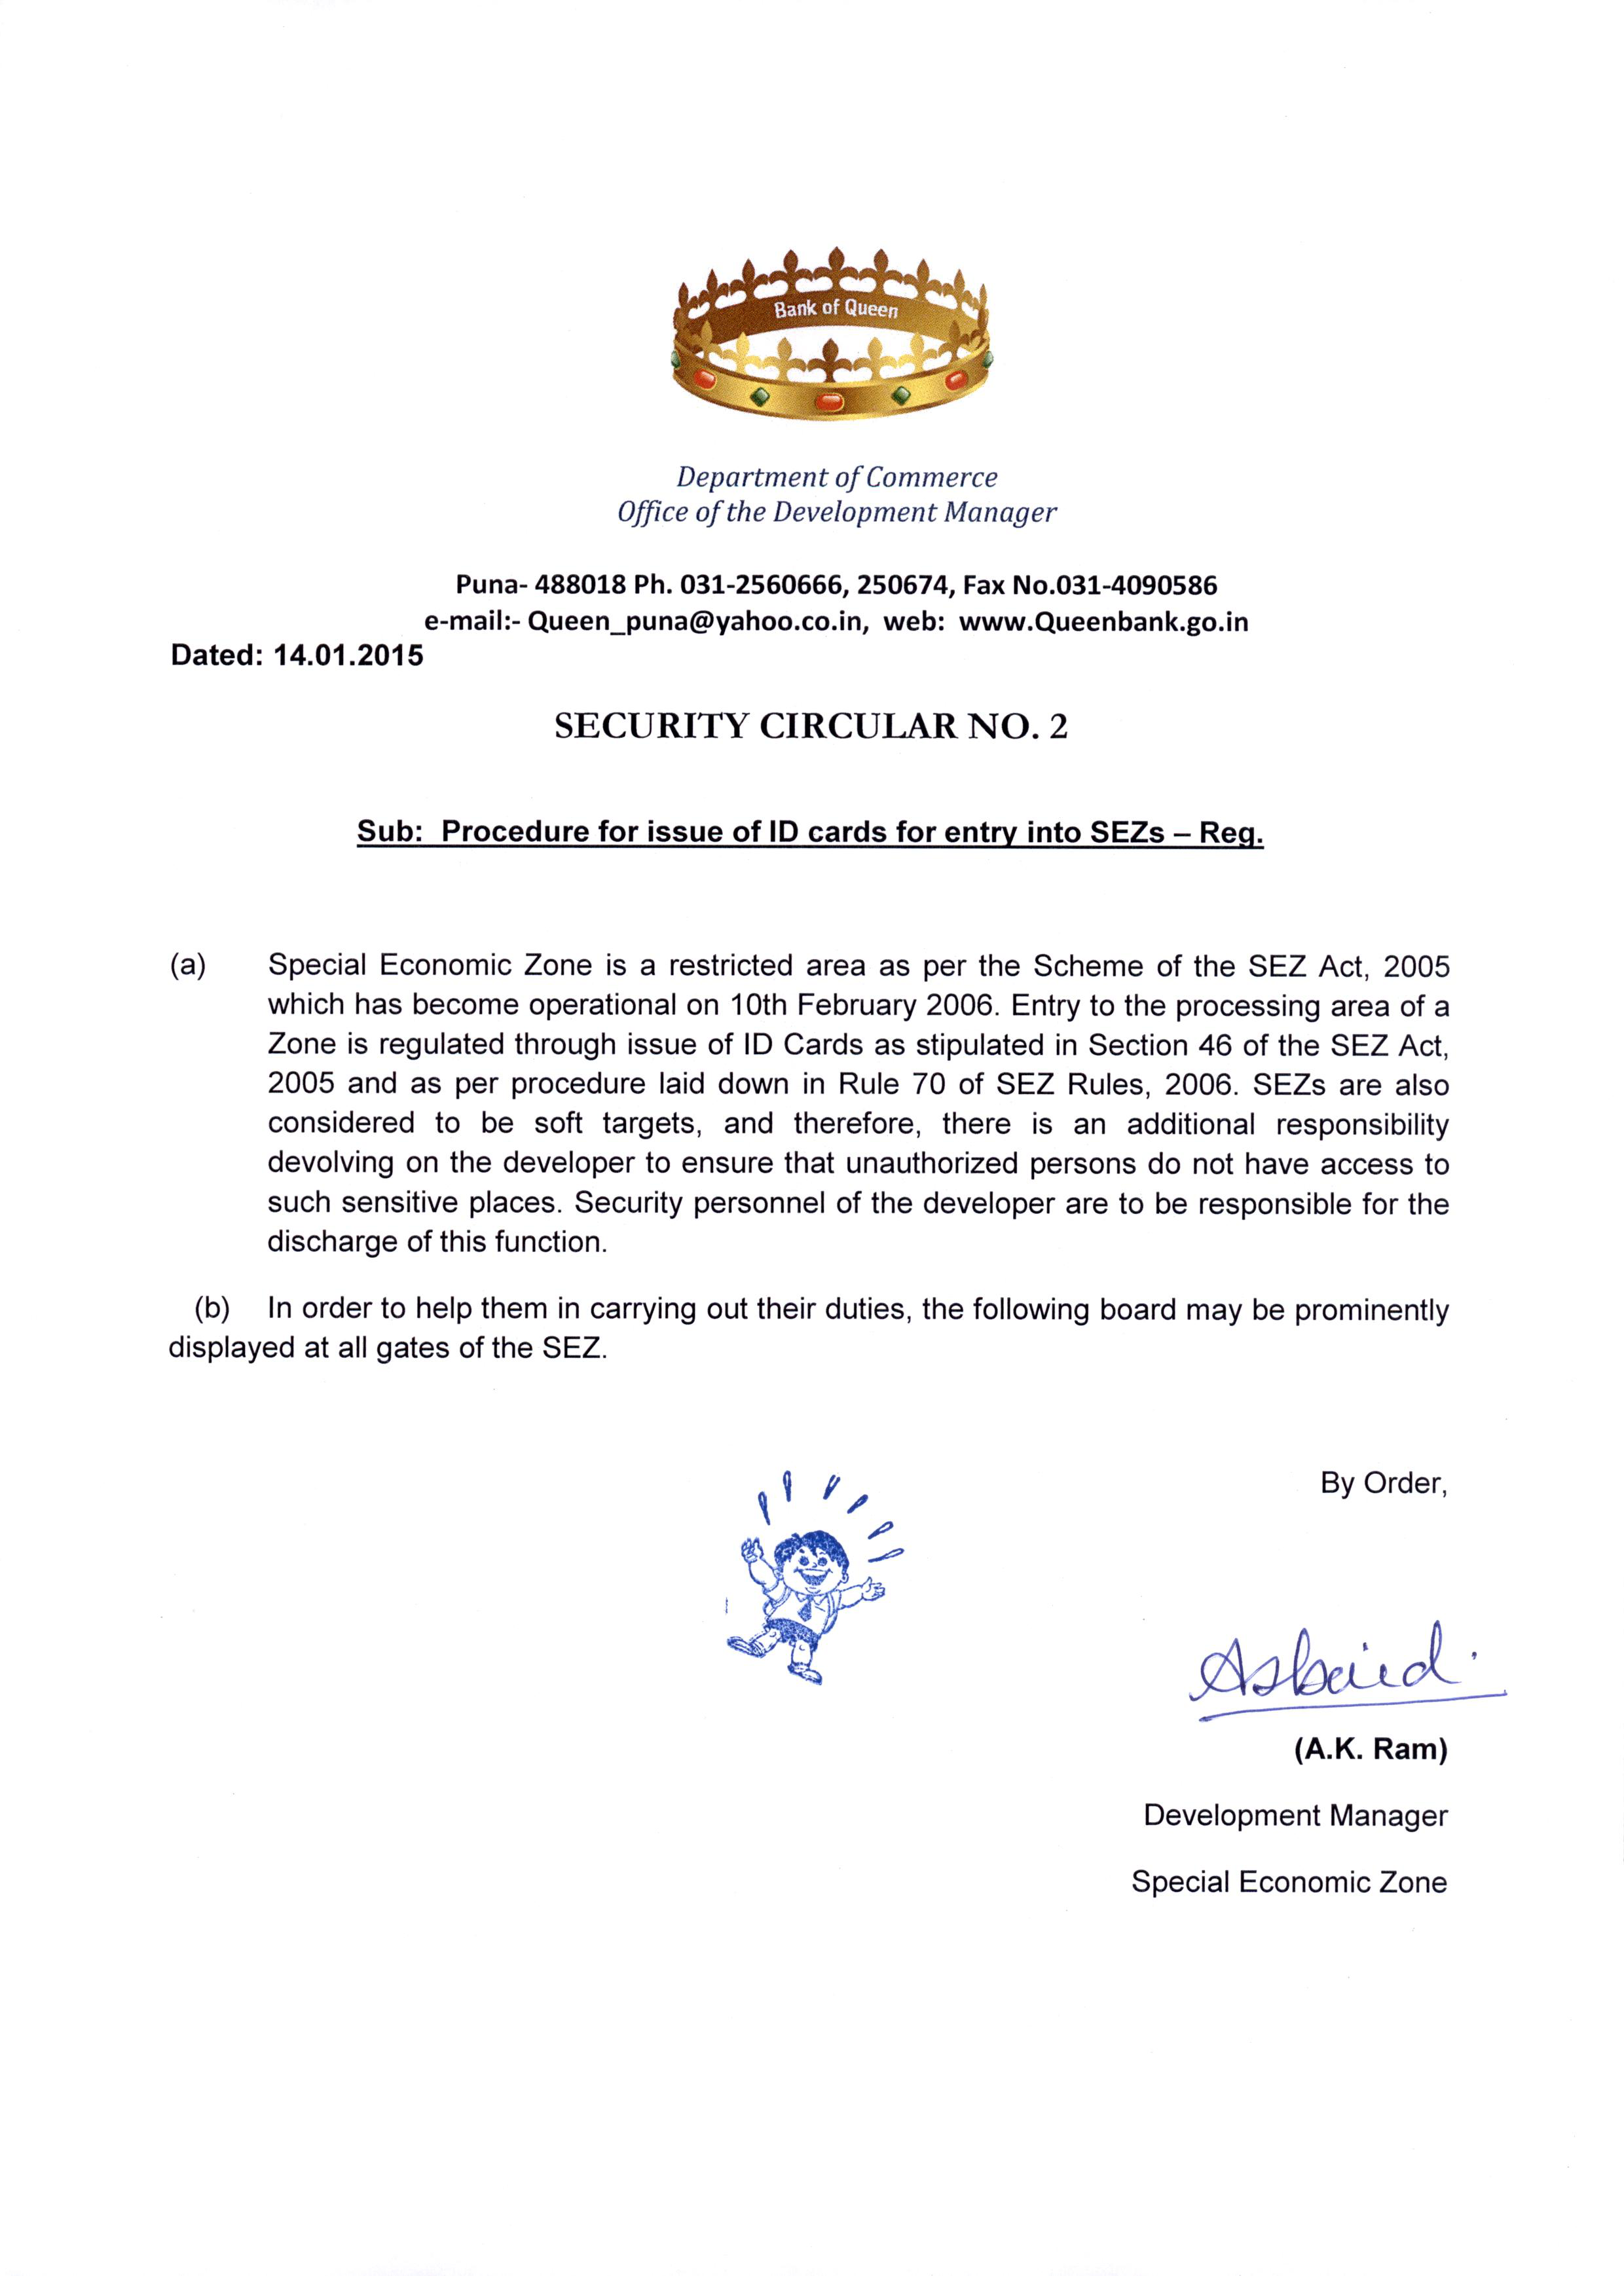Signature: (1172, 1612, 1519, 1724)
